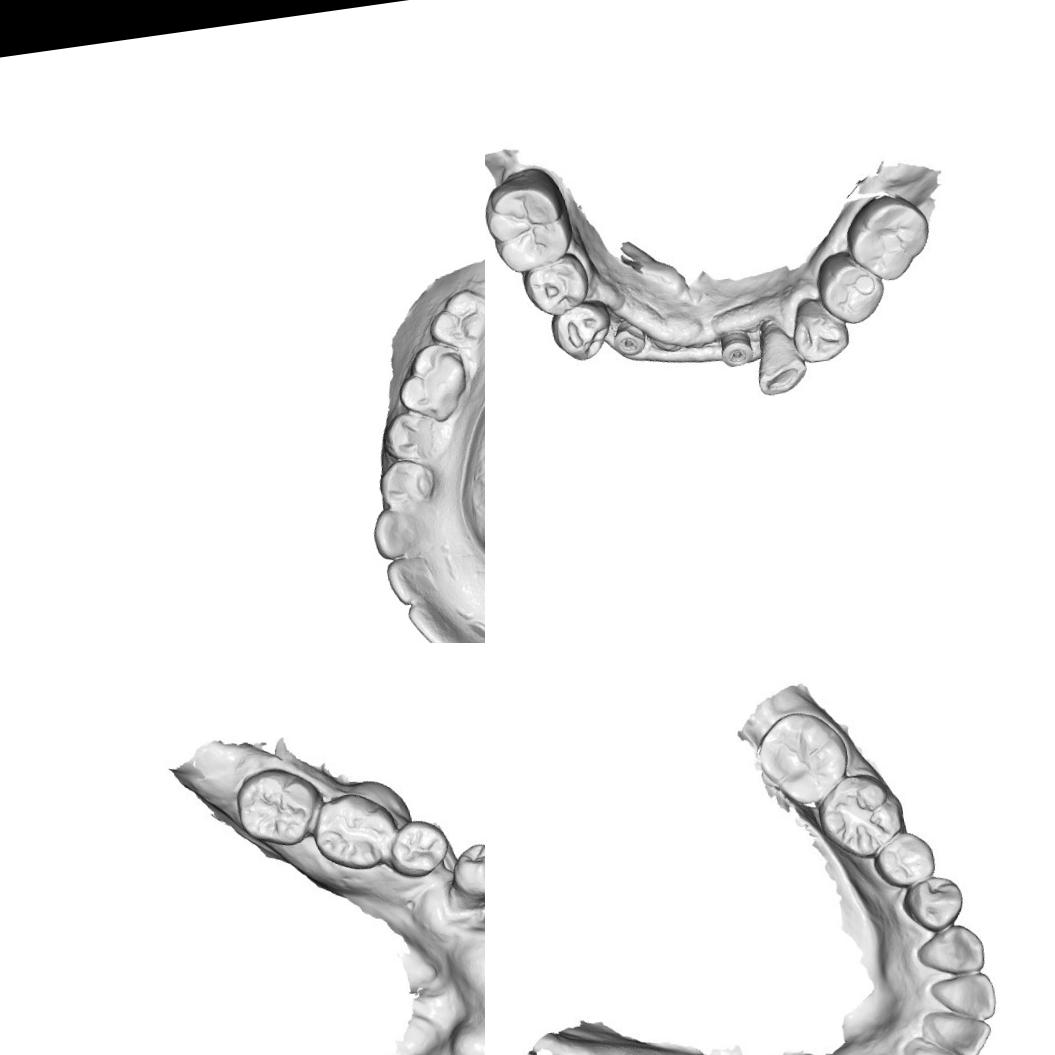canine: (909, 916, 992, 981), (748, 316, 808, 398), (368, 500, 426, 566)
implant: (719, 326, 754, 371)
implant_minus: (613, 321, 646, 364)
incisor: (922, 1003, 996, 1055), (935, 970, 997, 1026), (382, 550, 438, 610), (404, 593, 463, 643), (911, 1030, 975, 1055)
molar: (485, 162, 573, 277), (754, 711, 850, 808), (845, 190, 940, 288), (232, 762, 327, 853), (307, 787, 402, 876), (390, 337, 477, 428), (819, 770, 903, 857), (422, 285, 485, 352)
premolar: (809, 244, 892, 331), (784, 288, 854, 367), (519, 251, 596, 320), (547, 299, 616, 366), (384, 816, 453, 882), (907, 868, 965, 934), (376, 458, 439, 514), (380, 407, 438, 464), (878, 830, 934, 884), (445, 838, 485, 910)
